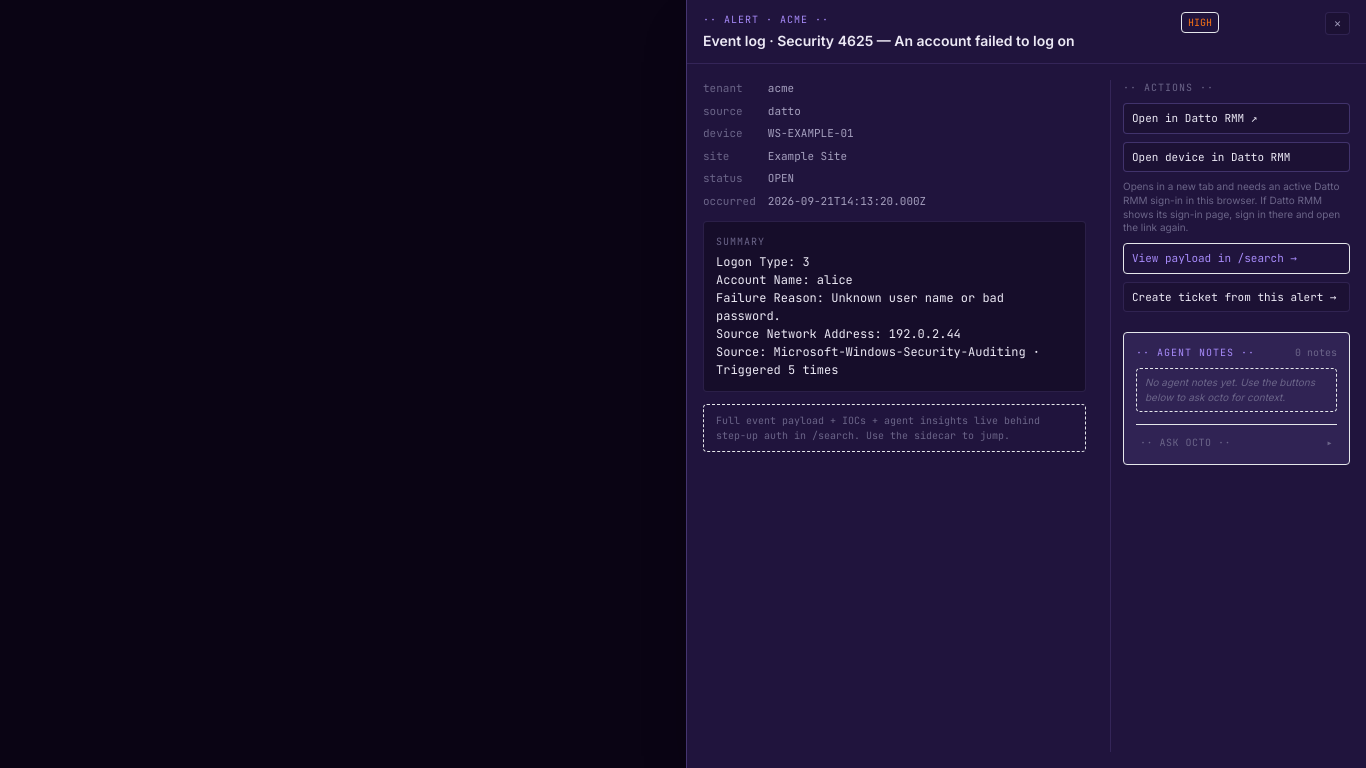
Test case: alert drawer › a 200 whose url is not https (javascript:alert(1)) opens nothing either
What coordinates should you click on to do the following:
click the button with test id "alert-drawer-vendor-device"
I would click on:
 (1236, 157)
Its box is [1123,142,1350,172].
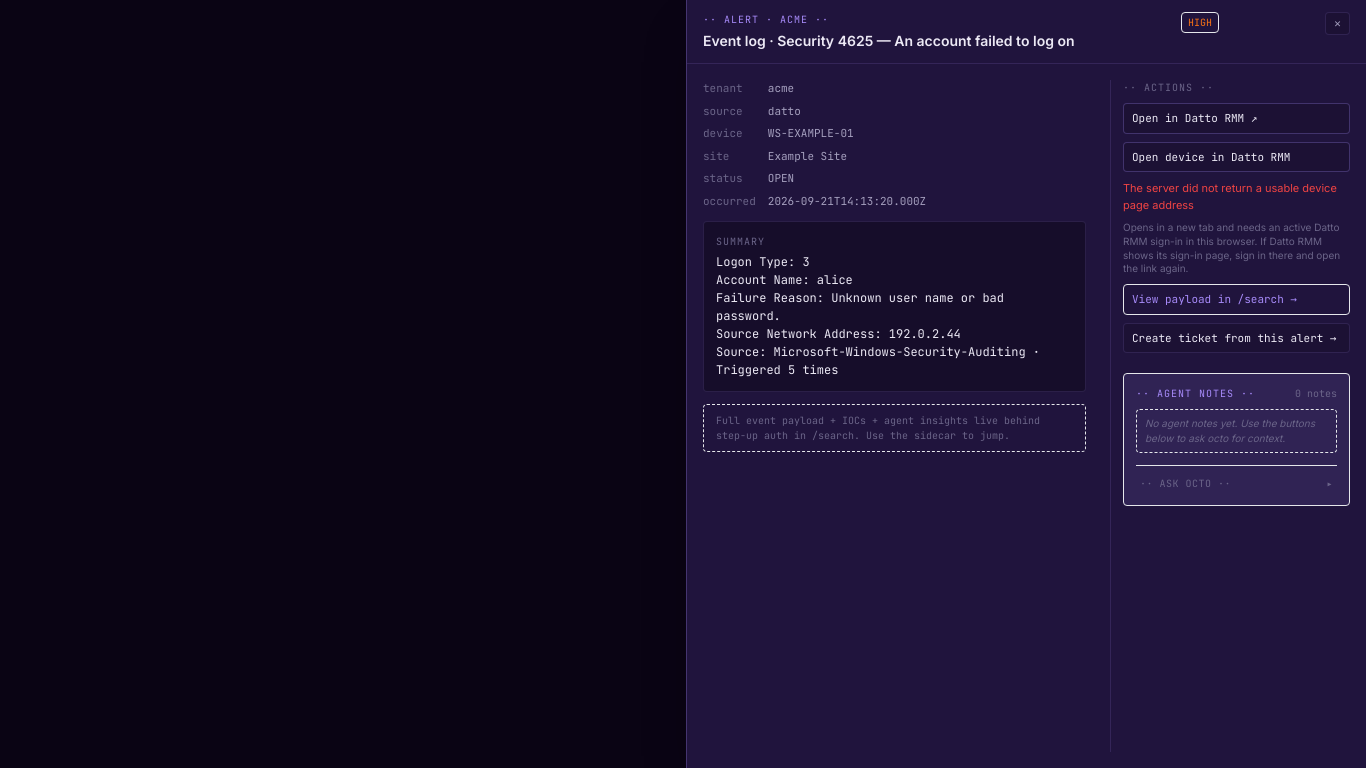
Check: the message "The server did not return a usable device page address" is shown, box [1123,180,1350,213]
